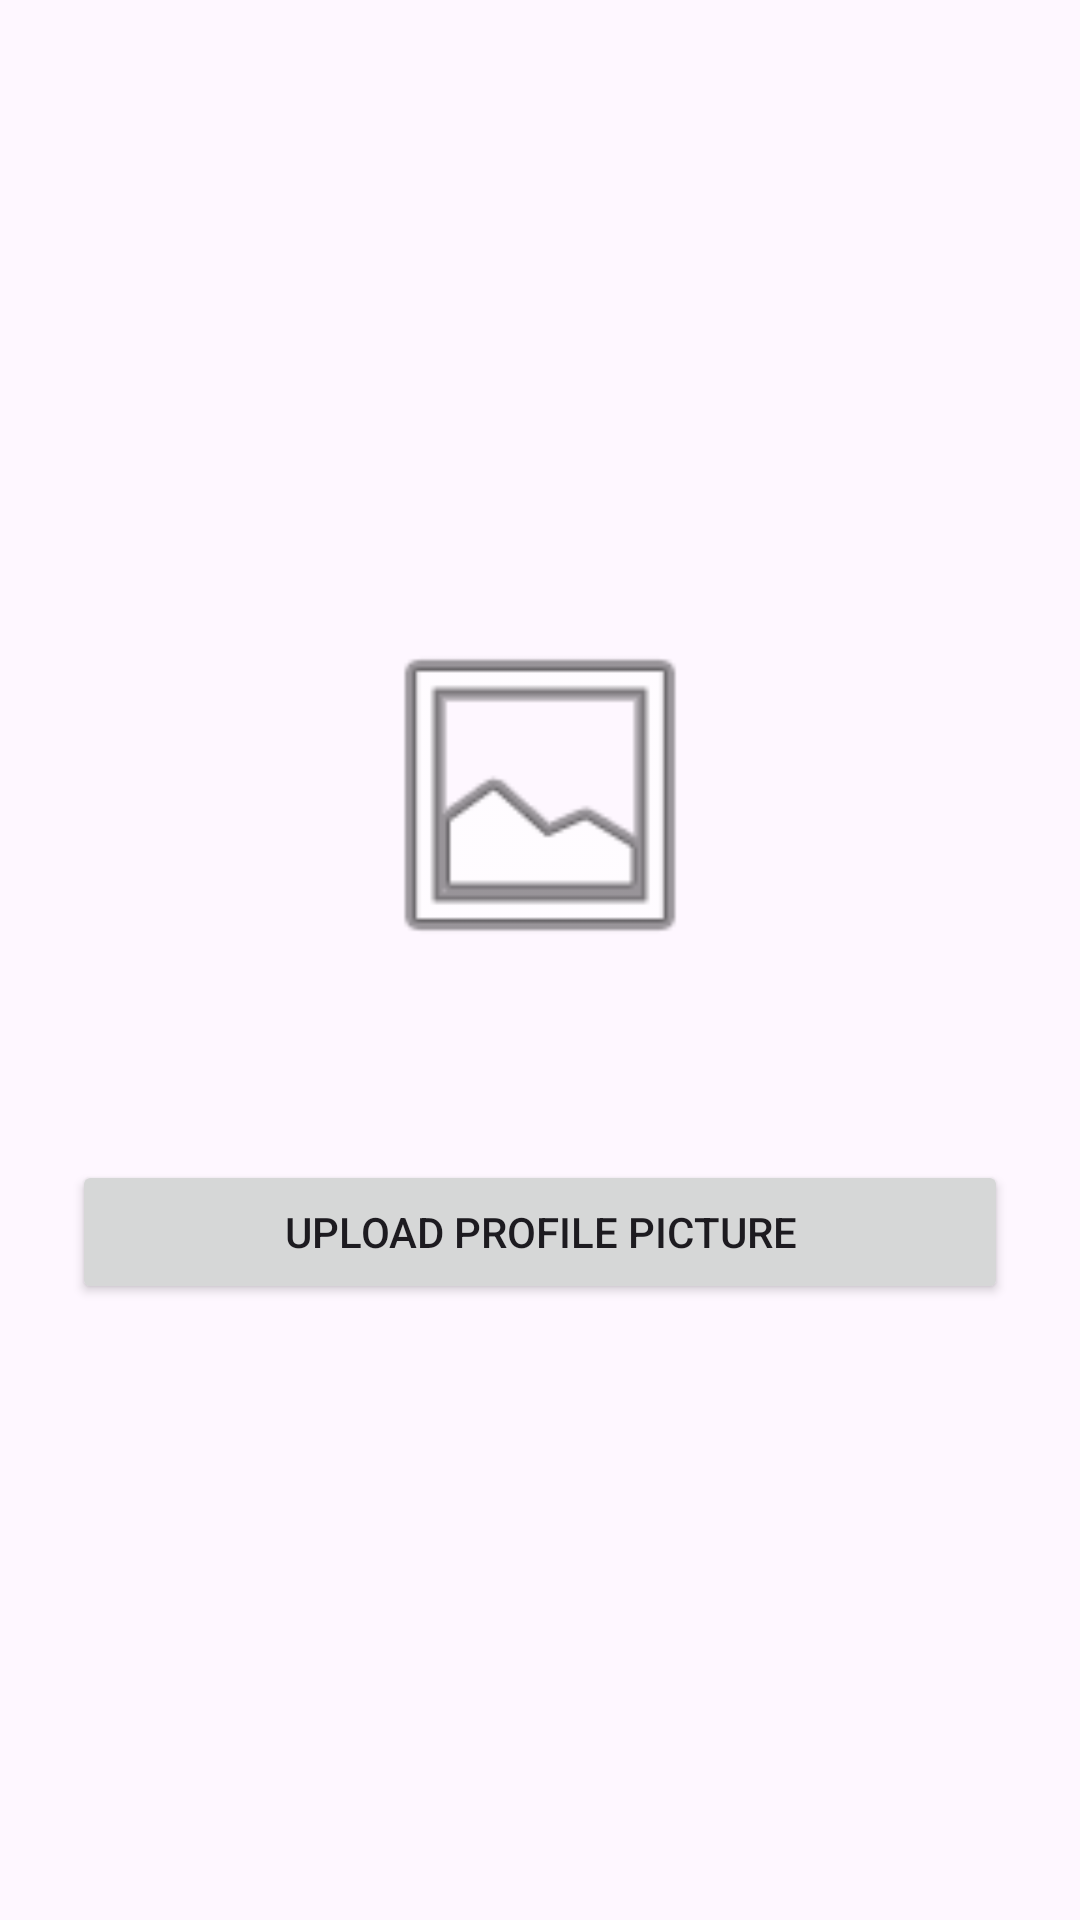

Locate icon controls on the screen. Image size 1080px x 1920px, boxes as bbox(x1, y1, x2, y2).
gallery: bbox(404, 659, 676, 931)
